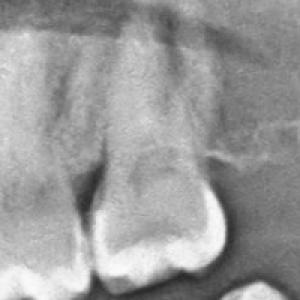tooth: (86, 71, 230, 295), (0, 90, 90, 300)
